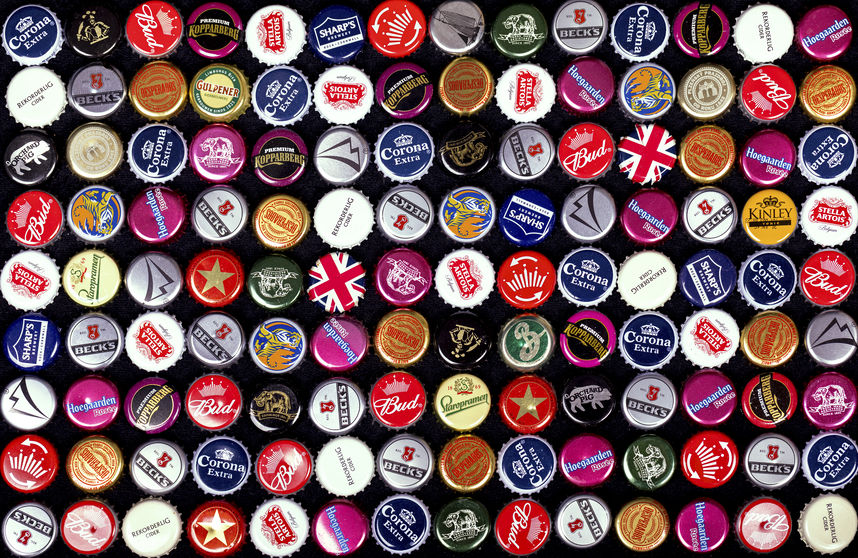corona: (123, 122, 190, 185), (371, 121, 437, 184), (369, 493, 434, 556), (250, 64, 313, 128), (2, 3, 64, 68), (190, 435, 252, 499), (736, 248, 798, 312), (608, 2, 672, 64), (799, 429, 858, 494), (798, 123, 858, 186), (497, 434, 558, 494), (558, 247, 615, 307), (620, 311, 676, 370)
